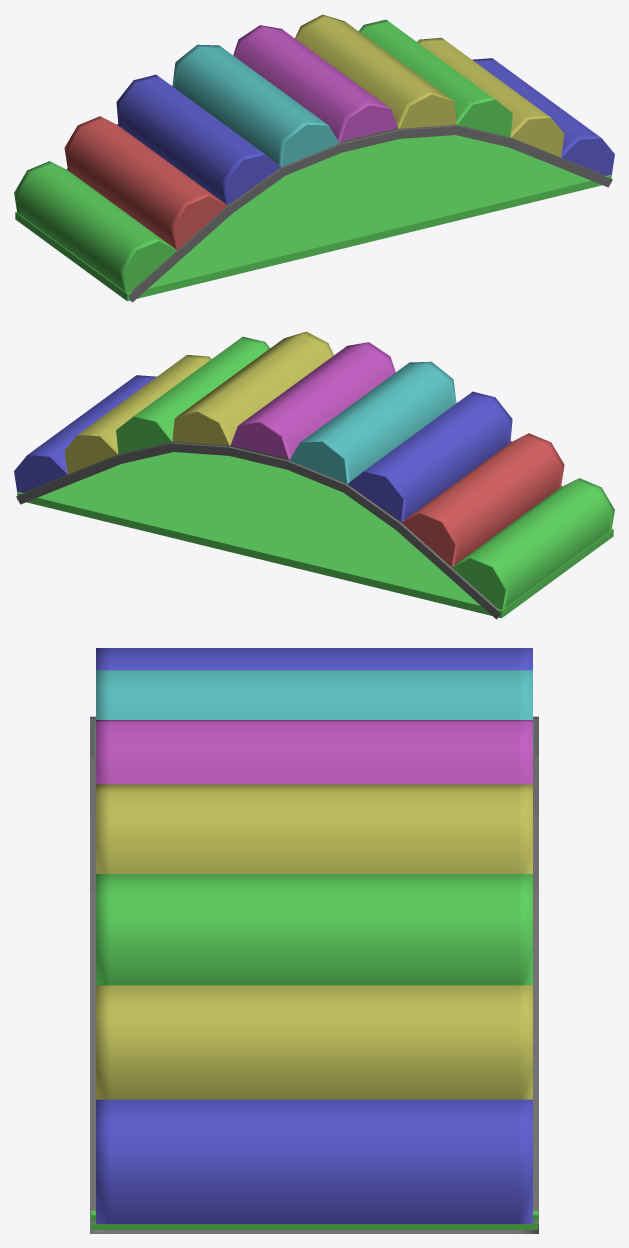
File: Bridge.fbx
3 renders of one model, top to bottom at view 1: azimuth 30°, elevation 25°; view 2: azimuth 150°, elevation 25°; view 3: azimuth 270°, elevation 25°, orthographic. The views are drawn at different scales.
Visible parts, largest first — view 1: Bridge; view 2: Bridge; view 3: Bridge.
Part boxes in pixels (bbox=[...]): Bridge: bbox=[14, 14, 614, 302]; Bridge: bbox=[14, 331, 614, 619]; Bridge: bbox=[90, 648, 538, 1233].
Size of the model in its own units: 507 by 138 by 201.
